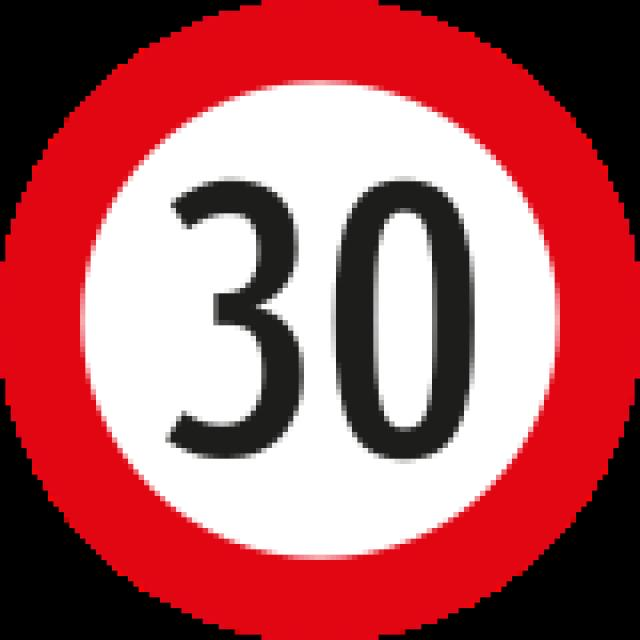Speed Limit -30-: (158, 162, 491, 469)
